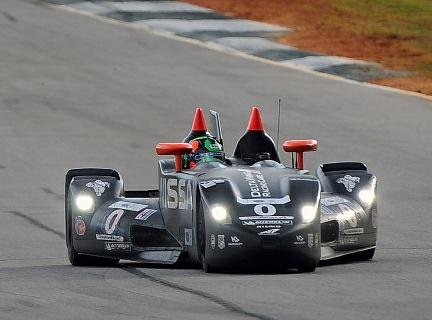日产-DeltaWing: (58, 106, 384, 276)
